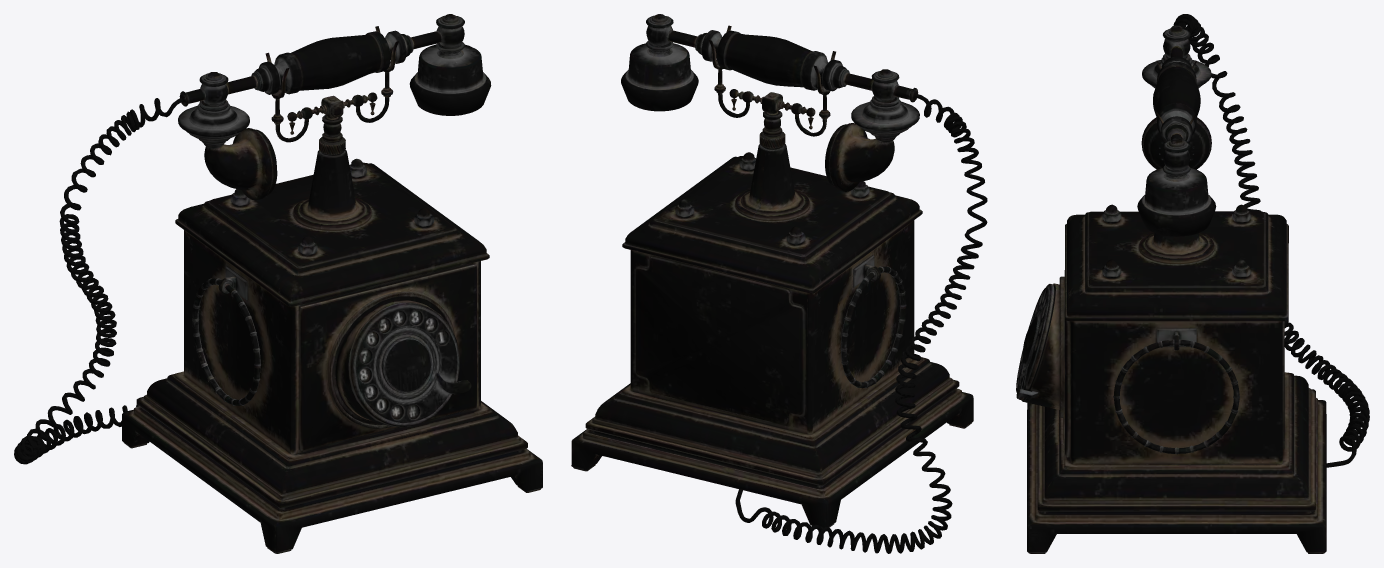
File: telephone.glb
3 views of the same model, side by side, from view 1: azimuth 30°, elevation 25°; view 2: azimuth 150°, elevation 25°; view 3: azimuth 270°, elevation 25° (orthographic). The views are drawn at different scales.
Parts seen in each view (by area): view 1: steampunk_phone_001; view 2: steampunk_phone_001; view 3: steampunk_phone_001.
Boxes of the visible parts, <box> form: steampunk_phone_001: <box>14,14,542,553</box>; steampunk_phone_001: <box>571,14,987,553</box>; steampunk_phone_001: <box>1016,14,1369,553</box>.
Size of the model in its own units: 0.4493 by 0.4539 by 0.3538.
Materials: 2 (1 with a texture image).
